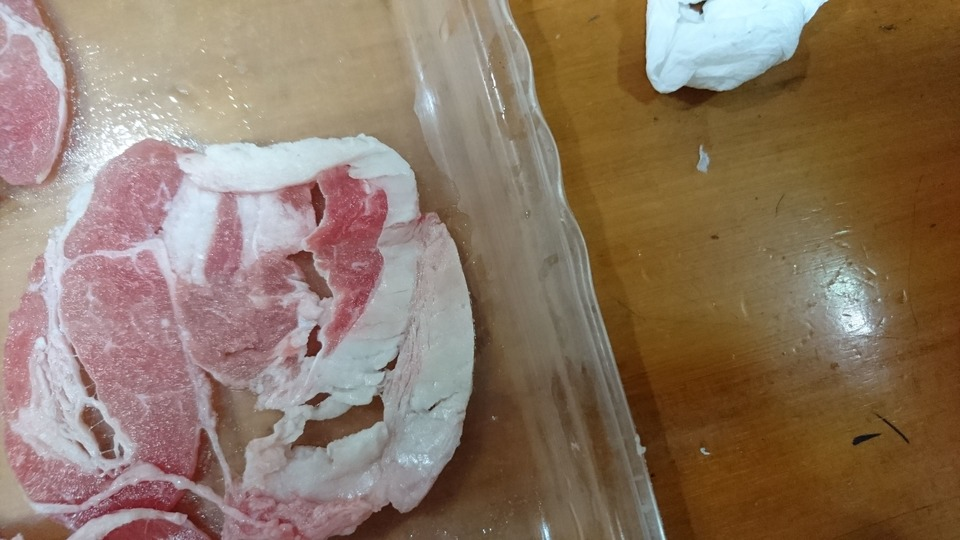restructured meat: (3, 134, 477, 538)
